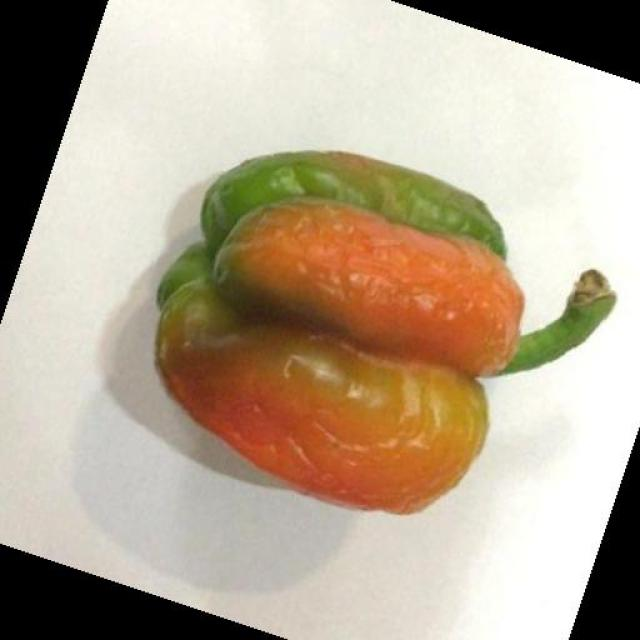Stale_Capsicum: (183, 151, 556, 527)
